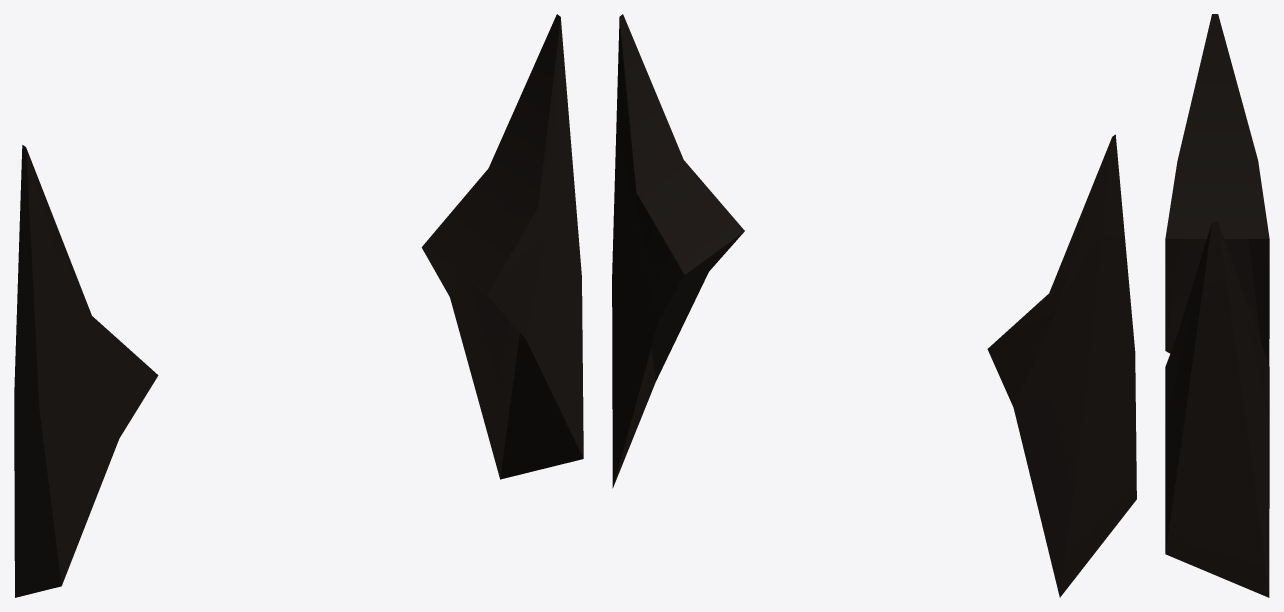
Rendered from ear_batman.fbx.
The picture shows the model from 3 angles, left to right: view 1: azimuth 30°, elevation 25°; view 2: azimuth 150°, elevation 25°; view 3: azimuth 270°, elevation 25°; orthographic projection. The views are drawn at different scales.
Parts seen in each view (by area): view 1: ear_batman; view 2: ear_batman; view 3: ear_batman.
Boxes of the visible parts, x1,y1,x2,y2 form: ear_batman: [14, 14, 583, 597]; ear_batman: [612, 14, 1136, 597]; ear_batman: [1165, 14, 1269, 597].
Size of the model in its own units: 99.32 by 84.5 by 20.73.
